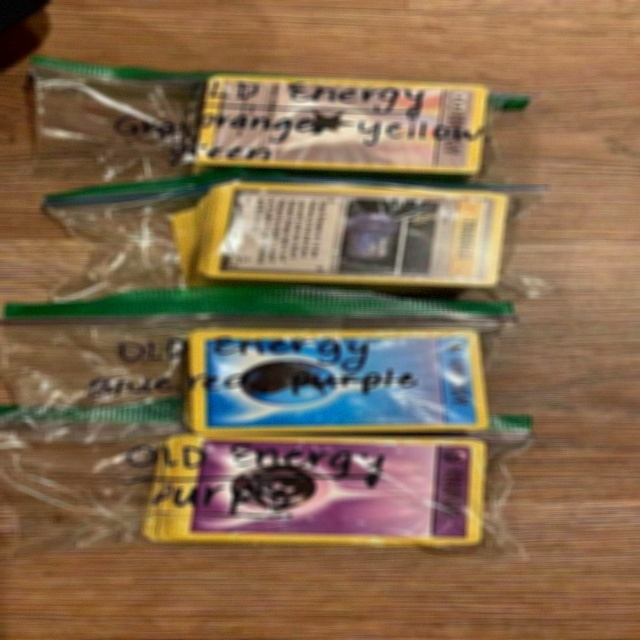card: (175, 435, 490, 545), (189, 328, 499, 437), (198, 182, 510, 288), (193, 76, 494, 173)
